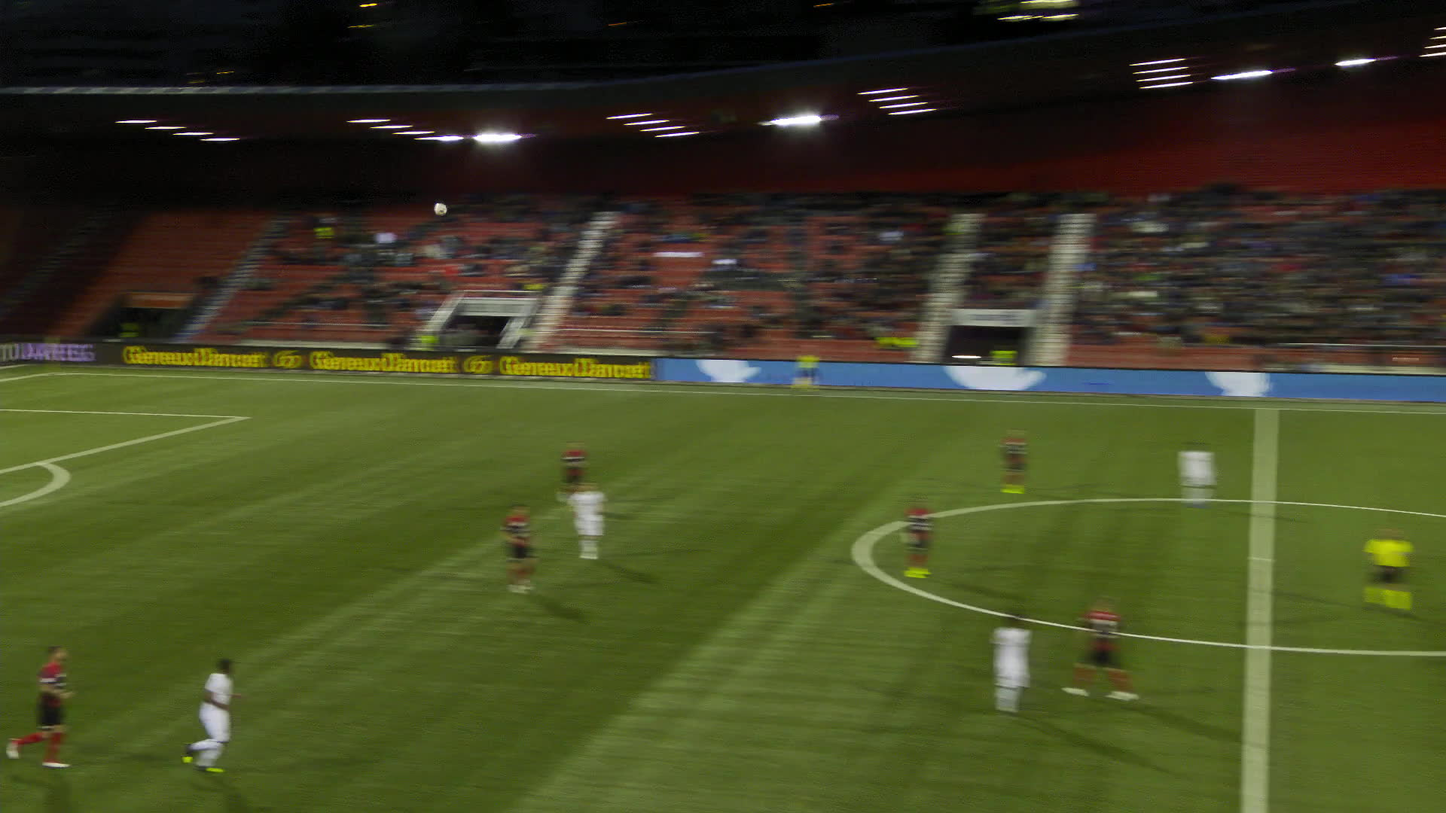ball: (435, 201, 447, 213)
player: (1059, 594, 1140, 702), (5, 643, 75, 766), (182, 658, 243, 774), (989, 614, 1033, 717), (500, 501, 538, 594), (566, 480, 606, 561), (1176, 439, 1217, 507), (903, 495, 935, 578), (999, 422, 1028, 494), (556, 439, 588, 504)
referee: (1362, 526, 1415, 614), (794, 351, 821, 391)
